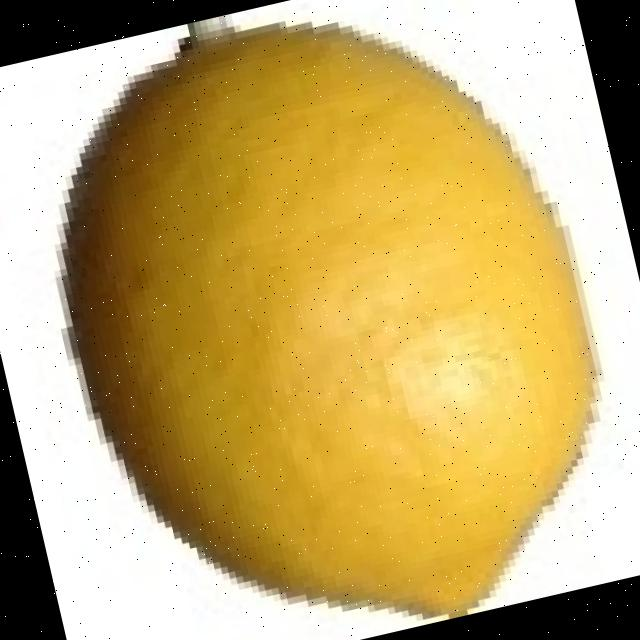lemon: (63, 26, 595, 618)
